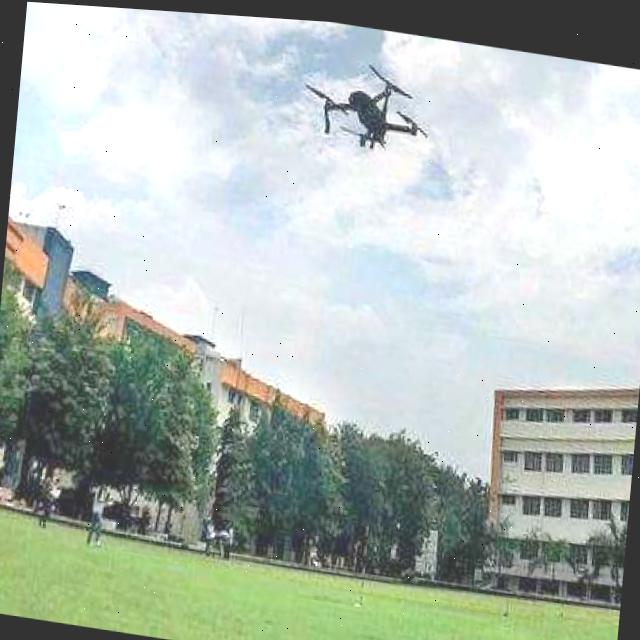drone: (298, 45, 436, 151)
